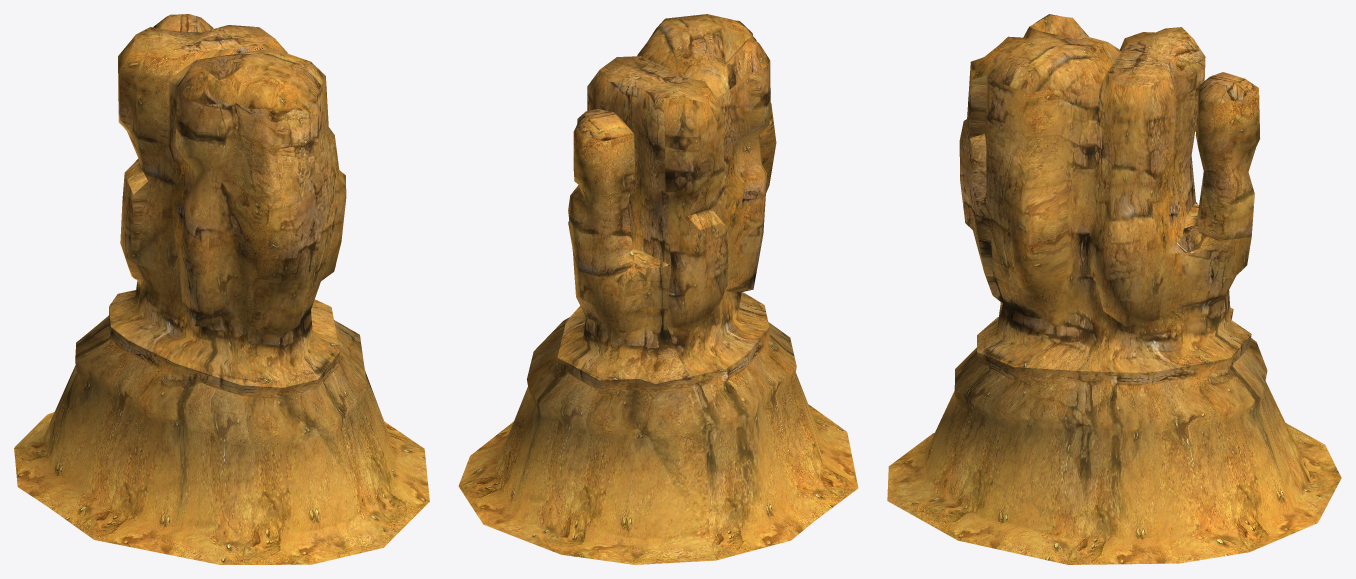
Rendered from SM_EN_2006_shan01.FBX.
The picture shows the model from 3 angles, left to right: view 1: azimuth 30°, elevation 25°; view 2: azimuth 150°, elevation 25°; view 3: azimuth 270°, elevation 25°; orthographic projection. The views are drawn at different scales.
Visible parts, largest first — view 1: SM_EN_2006_shan01; view 2: SM_EN_2006_shan01; view 3: SM_EN_2006_shan01.
Boxes of the visible parts, x1=… form: SM_EN_2006_shan01: x1=14, y1=14, x2=429, y2=564; SM_EN_2006_shan01: x1=458, y1=14, x2=858, y2=564; SM_EN_2006_shan01: x1=887, y1=14, x2=1341, y2=564.
Bounding box in the file's own units: 179 × 219 × 206.
